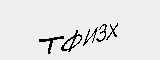З: (94, 20, 108, 47)
И: (83, 24, 98, 46)
Т: (37, 32, 63, 56)
Ф: (61, 27, 82, 54)
Х: (105, 19, 120, 40)
